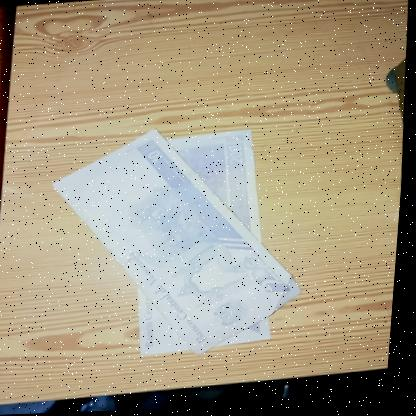ten-back-vef: (42, 119, 319, 366)
two_hundred-back-vef: (132, 129, 288, 358)
